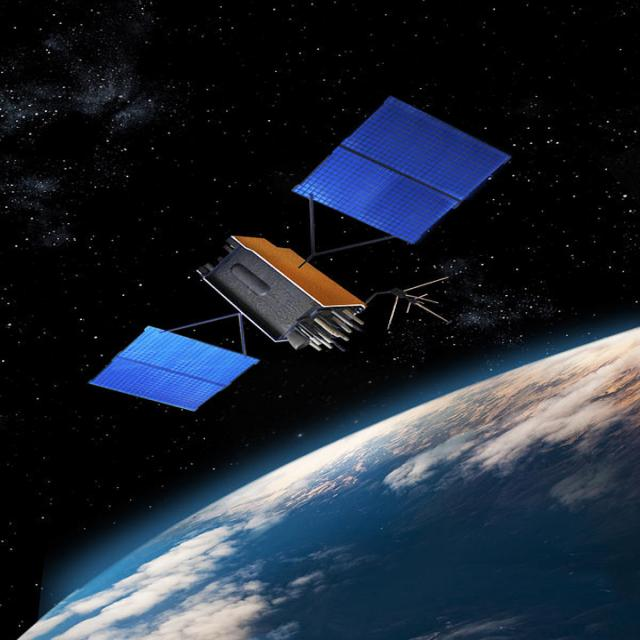satellite: (97, 91, 507, 463)
